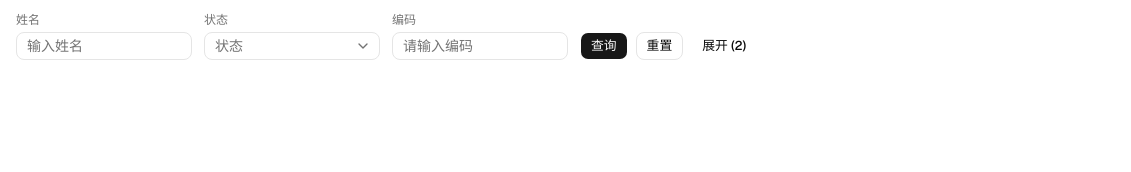
it: filter-bar › expands all fields on expand click
Click the button "展开 (2)": (724, 46) [691, 32, 757, 60]
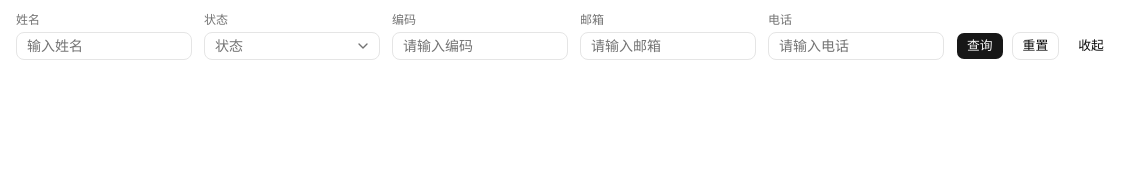
Check: the text "邮箱" is shown, box [580, 12, 604, 28]
Check: the text "电话" is shown, box [768, 12, 792, 28]
Check: the button "收起" is shown, box [1067, 32, 1115, 60]
